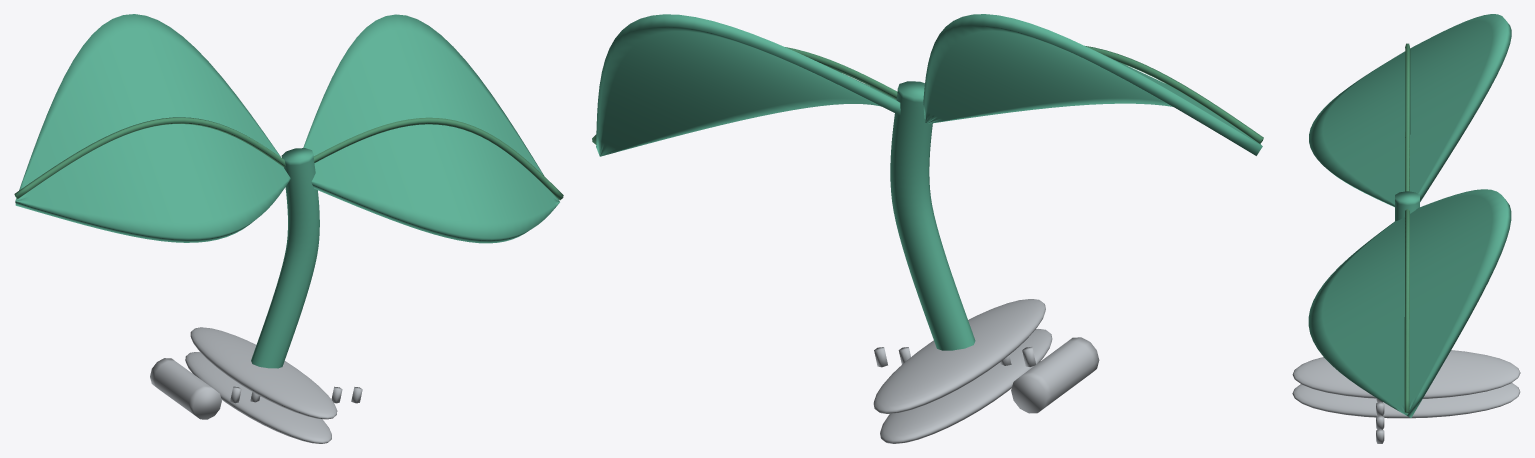
File: Feminine-space-buns-pashmina250-sprout.glb
3 renders of one model, left to right at view 1: azimuth 30°, elevation 25°; view 2: azimuth 150°, elevation 25°; view 3: azimuth 270°, elevation 25°, orthographic. The views are drawn at different scales.
Parts seen in each view (by area): view 1: 226 extra / Accessory / mint226, 226 extra / Sprout / clip silver235, 226 extra / Sprout / leaf vein235; view 2: 226 extra / Accessory / mint226, 226 extra / Sprout / clip silver235, 226 extra / Sprout / leaf vein235; view 3: 226 extra / Accessory / mint226, 226 extra / Sprout / clip silver235, 226 extra / Sprout / leaf vein235.
Part boxes in pixels (<box>): 226 extra / Accessory / mint226: <box>15,14,559,368</box>; 226 extra / Sprout / clip silver235: <box>150,327,362,443</box>; 226 extra / Sprout / leaf vein235: <box>14,117,563,200</box>; 226 extra / Accessory / mint226: <box>596,14,1262,350</box>; 226 extra / Sprout / clip silver235: <box>873,299,1099,443</box>; 226 extra / Sprout / leaf vein235: <box>592,46,1263,144</box>; 226 extra / Accessory / mint226: <box>1308,14,1511,417</box>; 226 extra / Sprout / clip silver235: <box>1292,350,1520,443</box>; 226 extra / Sprout / leaf vein235: <box>1404,43,1410,413</box>.
Size of the model in its own units: 0.2645 by 0.1738 by 0.104.
